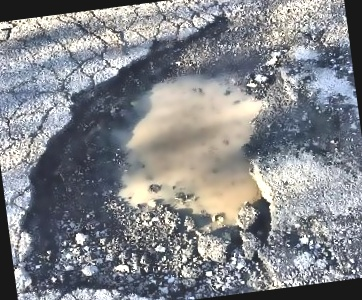pothole: (0, 6, 316, 300)
